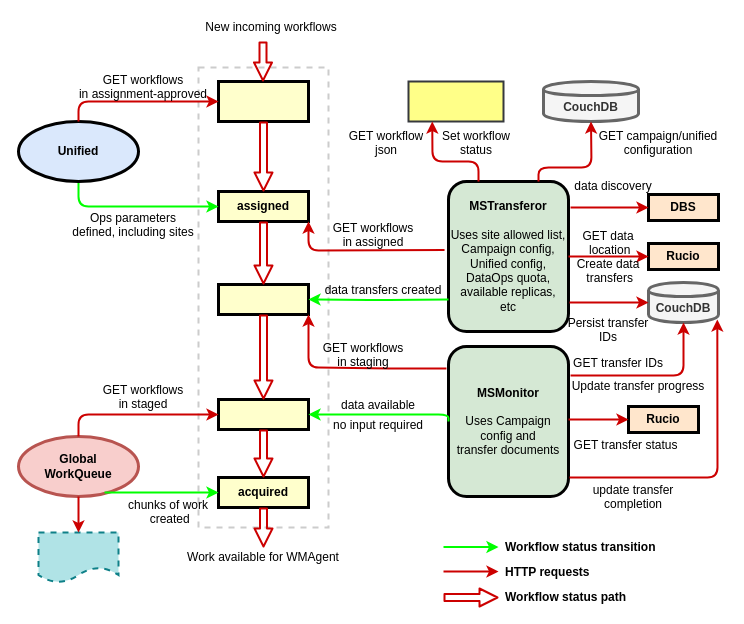
The diagram is 744 pixels wide and 624 high, and some of its shapes have lost their labels. Each missing label, with the centre of its shape:
"assignment-approved" belongs at (x=263, y=101).
"GQE in Available" belongs at (x=78, y=557).
"ReqMgr2" belongs at (x=455, y=101).
"staged" belongs at (x=263, y=414).
"staging" belongs at (x=263, y=299).
